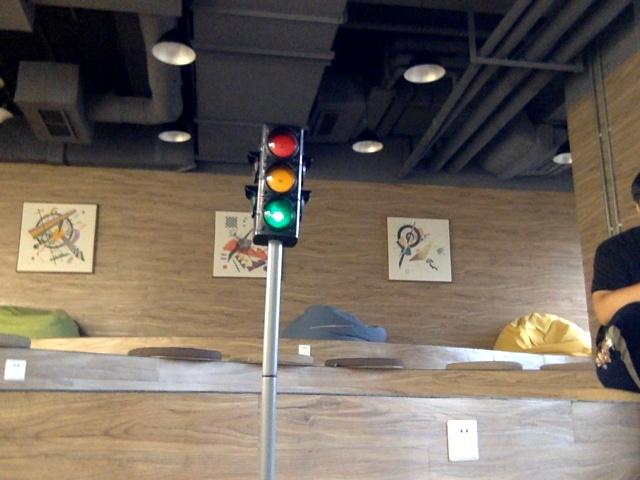green: (261, 127, 292, 232)
